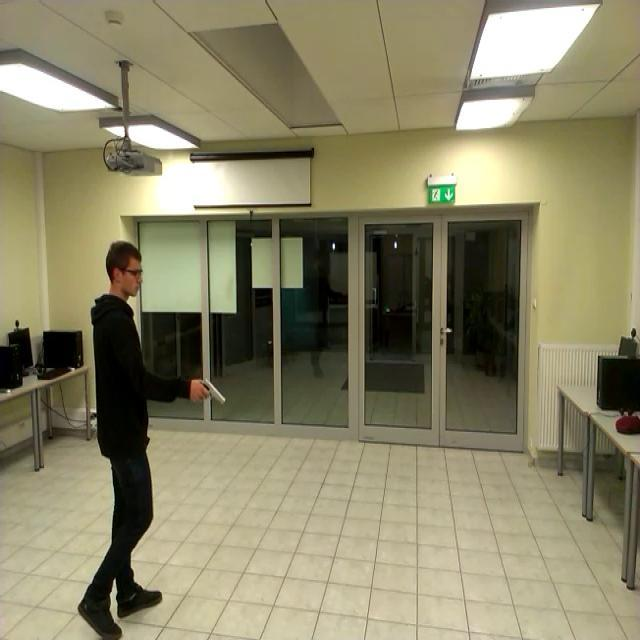Gun: (182, 368, 240, 412)
